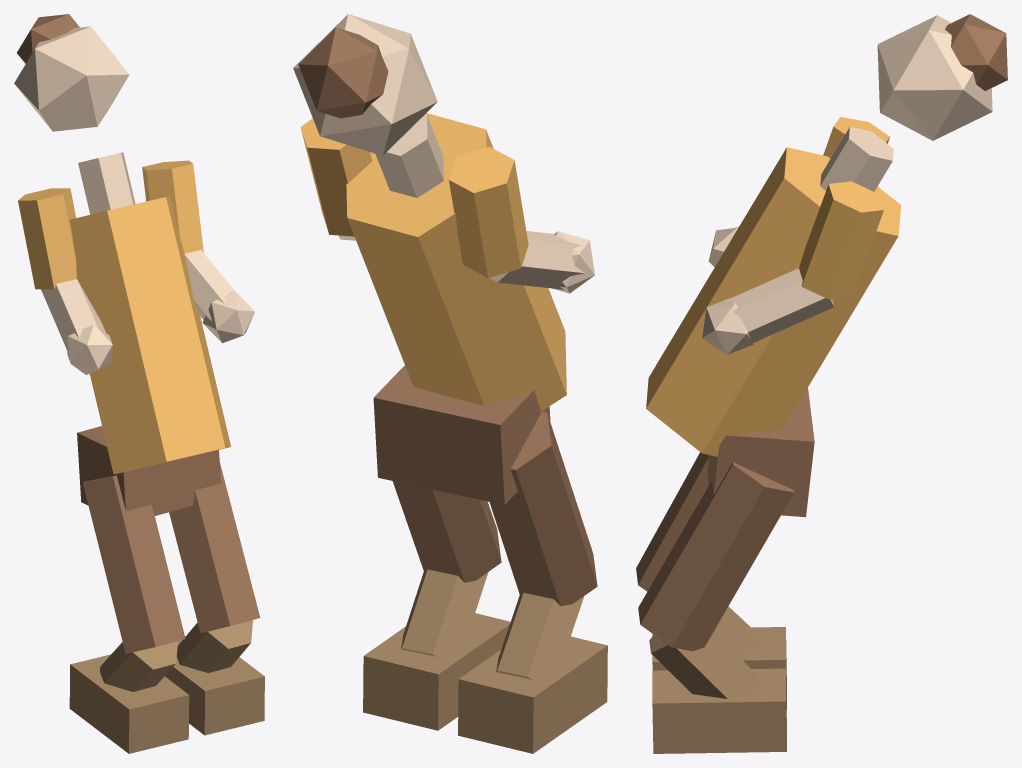
Rendered from pose_hit_light_02.glb.
3 renders of one model, left to right at view 1: azimuth 30°, elevation 25°; view 2: azimuth 150°, elevation 25°; view 3: azimuth 270°, elevation 25°, orthographic. The views are drawn at different scales.
Parts seen in each view (by area): view 1: pose; view 2: pose; view 3: pose.
Part boxes in pixels (x1,y1,x2,y2): pose: (14,14,264,753); pose: (293,14,607,753); pose: (636,14,1007,753).
Bounding box in the file's own units: 0.4159 × 1.39 × 0.6687.
